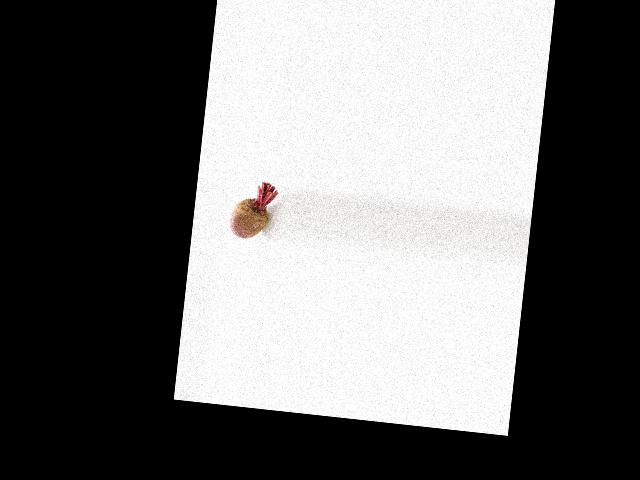beet: (228, 179, 279, 242)
